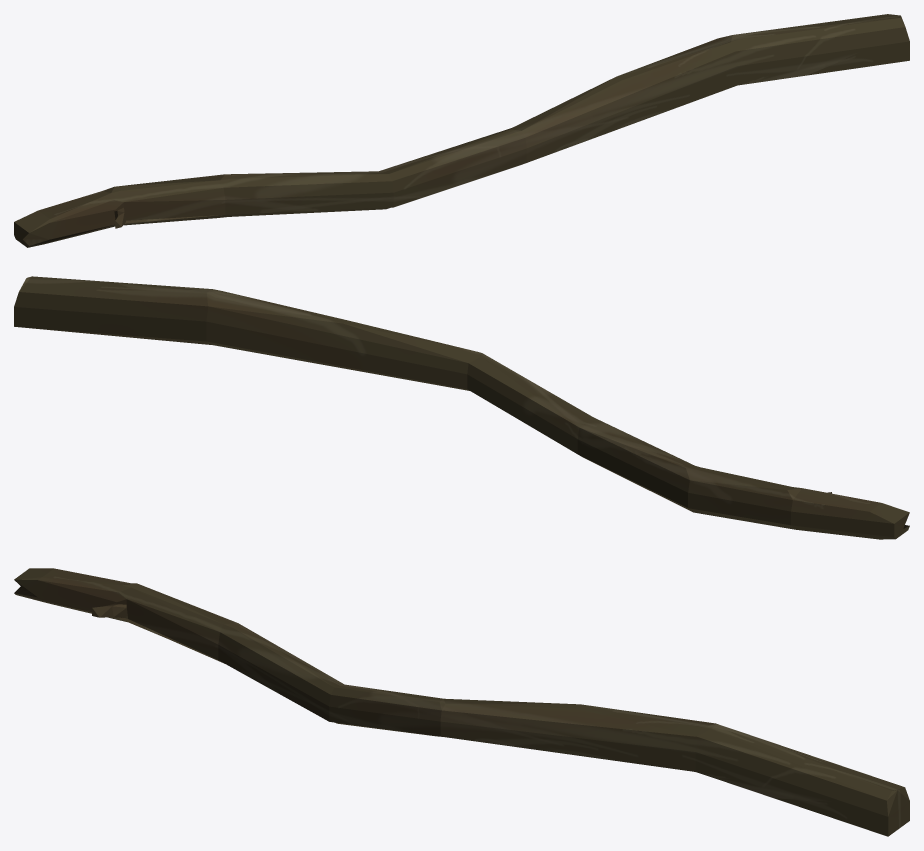
File: ramita.glb
3 renders of one model, top to bottom at view 1: azimuth 30°, elevation 25°; view 2: azimuth 150°, elevation 25°; view 3: azimuth 330°, elevation 25°, orthographic. The views are drawn at different scales.
Visible parts, largest first — view 1: ramita-col; view 2: ramita-col; view 3: ramita-col.
Part boxes in pixels (bbox=[...]): ramita-col: bbox=[14, 14, 909, 247]; ramita-col: bbox=[14, 276, 909, 539]; ramita-col: bbox=[14, 568, 909, 836].
Bounding box in the file's own units: 12.97 × 1.13 × 1.66.
1 material, 1 textured.
